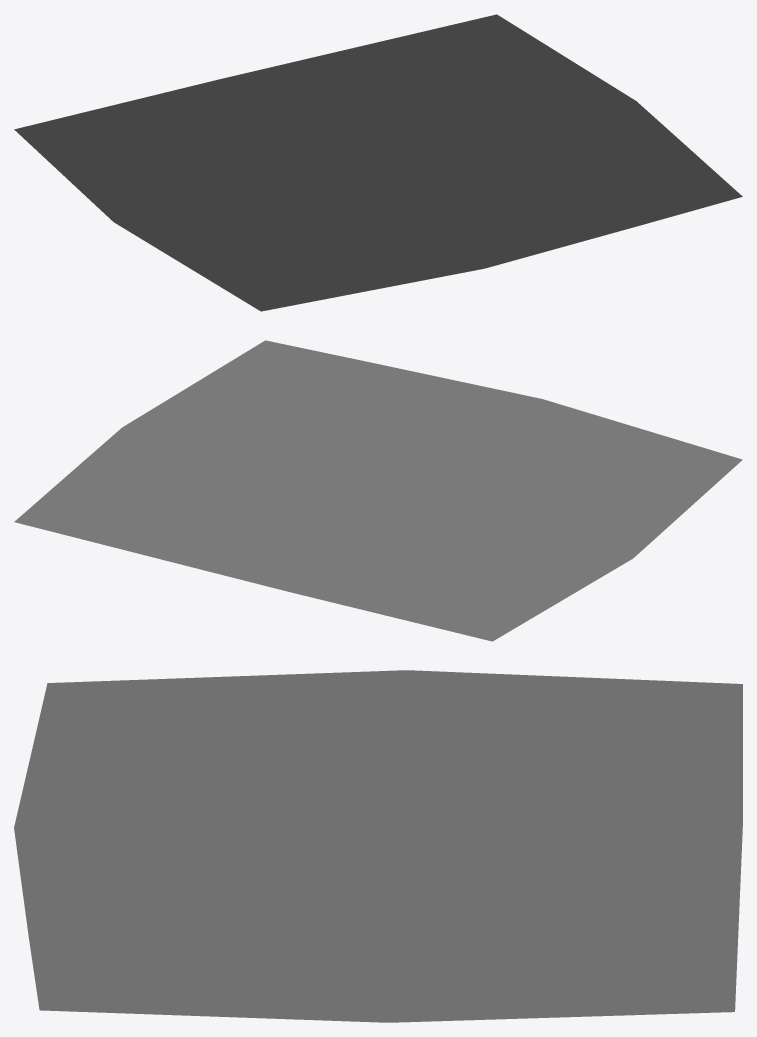
3 views of the same model, one above another, from view 1: azimuth 30°, elevation 25°; view 2: azimuth 150°, elevation 25°; view 3: azimuth 270°, elevation 25° (orthographic). The views are drawn at different scales.
Parts seen in each view (by area): view 1: Joint_0_Object_0; view 2: Joint_0_Object_0; view 3: Joint_0_Object_0.
Part boxes in pixels (x1=…): Joint_0_Object_0: x1=14, y1=14, x2=742, y2=311; Joint_0_Object_0: x1=14, y1=340, x2=742, y2=641; Joint_0_Object_0: x1=14, y1=670, x2=742, y2=1022.
Size of the model in its own units: 1371 by 0 by 1198.
